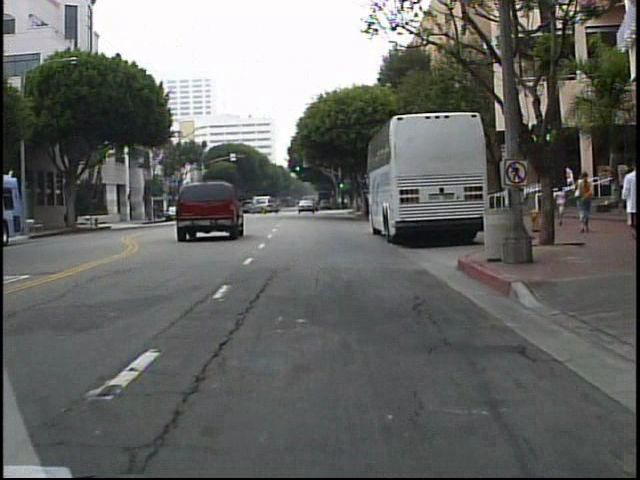person: (572, 169, 599, 237)
